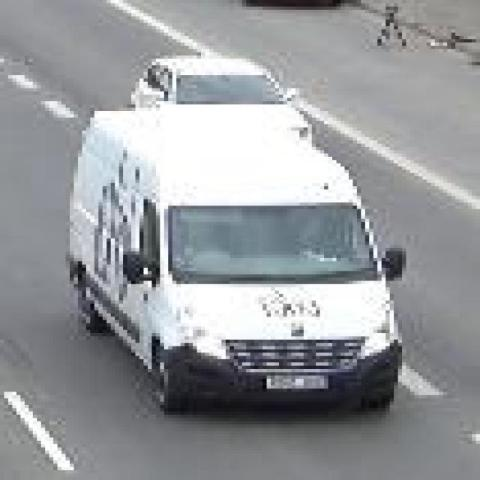car: (130, 56, 314, 151)
van: (68, 115, 400, 409)
